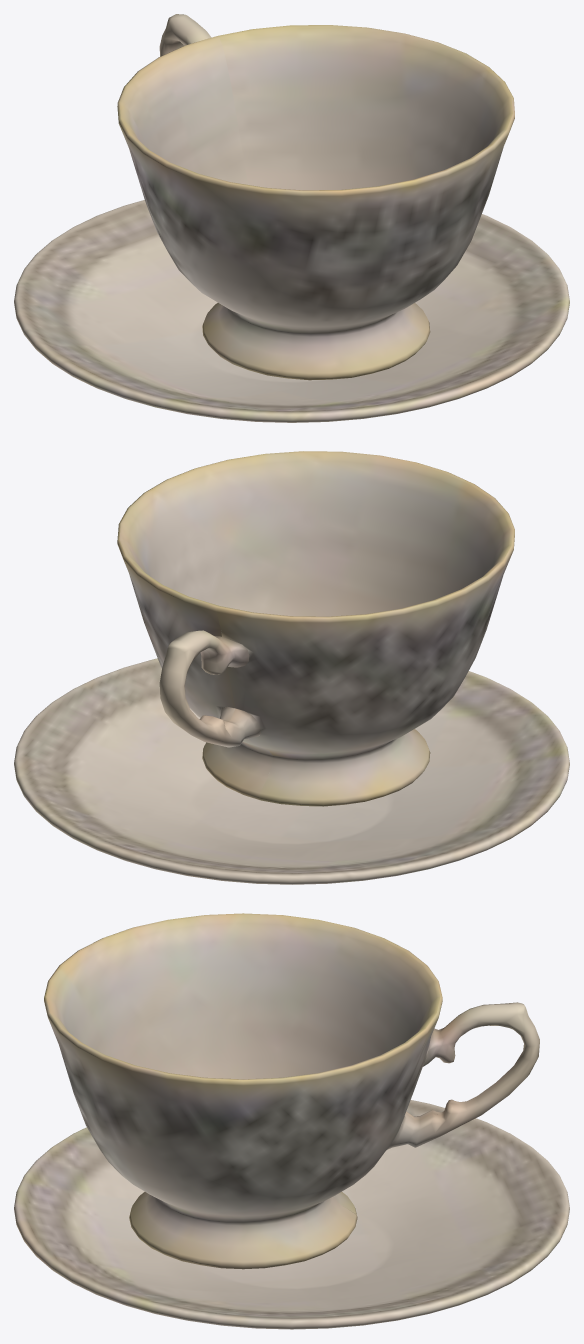
The model's file is tea_set_01.glb.
3 renders of one model, top to bottom at view 1: azimuth 30°, elevation 25°; view 2: azimuth 150°, elevation 25°; view 3: azimuth 270°, elevation 25°, orthographic.
Visible parts, largest first — view 1: tea_set_01_cup_small_01, tea_set_01_saucer_circular_03; view 2: tea_set_01_cup_small_01, tea_set_01_saucer_circular_03; view 3: tea_set_01_cup_small_01, tea_set_01_saucer_circular_03.
Part boxes in pixels (left/top/right/bottom): tea_set_01_cup_small_01: left=117, top=14, right=514, bottom=380; tea_set_01_saucer_circular_03: left=14, top=200, right=569, bottom=422; tea_set_01_cup_small_01: left=117, top=451, right=514, bottom=806; tea_set_01_saucer_circular_03: left=14, top=658, right=569, bottom=884; tea_set_01_cup_small_01: left=44, top=913, right=539, bottom=1269; tea_set_01_saucer_circular_03: left=14, top=1100, right=569, bottom=1329.
Size of the model in its own units: 0.149 by 0.0773 by 0.149.
1 material, 1 textured.
